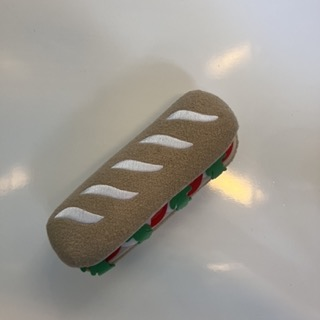sandwich: (47, 90, 240, 275)
